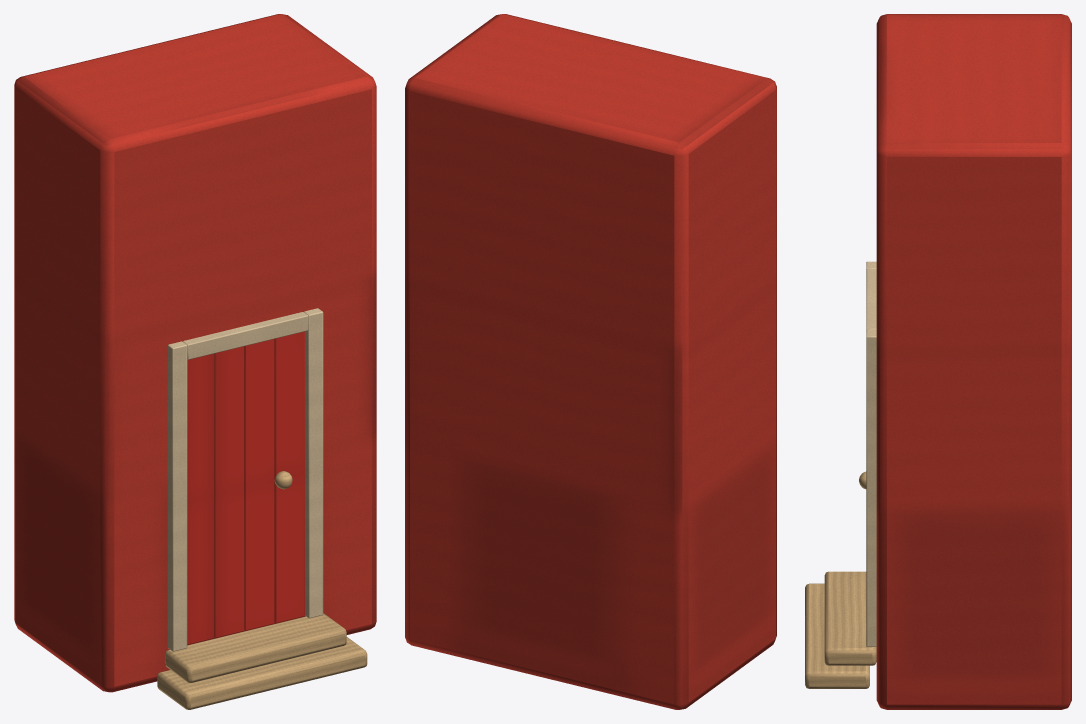
The model's file is 2-red-block-pier.fbx.
3 views of the same model, side by side, from view 1: azimuth 30°, elevation 25°; view 2: azimuth 150°, elevation 25°; view 3: azimuth 270°, elevation 25° (orthographic). The views are drawn at different scales.
Visible parts, largest first — view 1: red-block-pier; view 2: red-block-pier; view 3: red-block-pier.
Part boxes in pixels (bbox=[...]): red-block-pier: bbox=[14, 14, 376, 709]; red-block-pier: bbox=[405, 14, 776, 709]; red-block-pier: bbox=[805, 14, 1071, 709].
Size of the model in its own units: 5000 by 9600 by 4100.
Materials: 1 (1 with a texture image).
